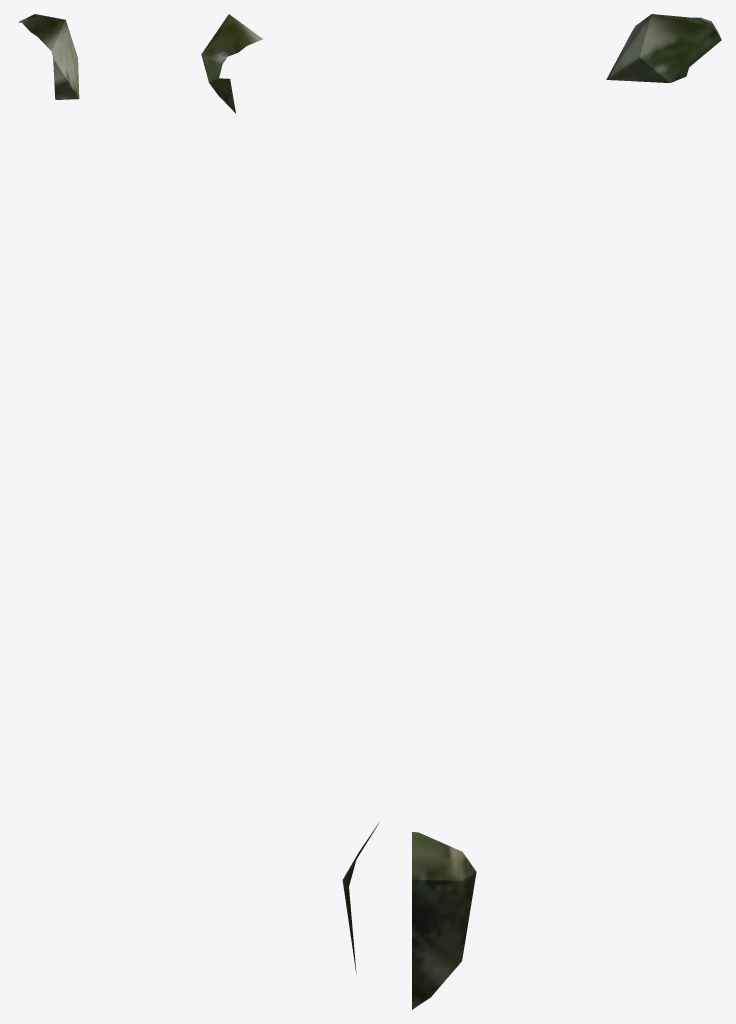
The picture shows the model from 3 angles, left to right: view 1: azimuth 30°, elevation 25°; view 2: azimuth 150°, elevation 25°; view 3: azimuth 270°, elevation 25°; orthographic projection. The views are drawn at different scales.
Bounding box in the file's own units: 0.0206 × 0.6294 × 0.1754.
1 material, 1 textured.
